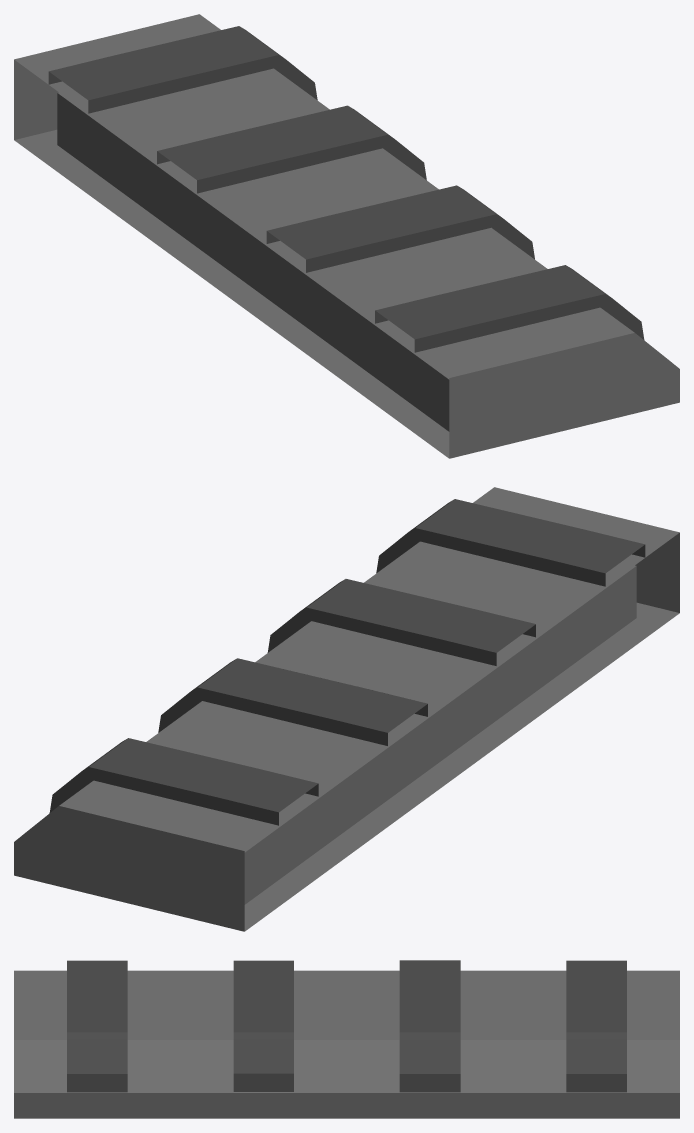
The model's file is Wall_Lamp_01.fbx.
3 renders of one model, top to bottom at view 1: azimuth 30°, elevation 25°; view 2: azimuth 150°, elevation 25°; view 3: azimuth 270°, elevation 25°, orthographic. The views are drawn at different scales.
Parts seen in each view (by area): view 1: Wall_Lamp_01; view 2: Wall_Lamp_01; view 3: Wall_Lamp_01.
Part boxes in pixels (<box>): Wall_Lamp_01: <box>14,14,679,458</box>; Wall_Lamp_01: <box>14,487,679,931</box>; Wall_Lamp_01: <box>14,960,679,1118</box>.
Bounding box in the file's own units: 18.6 × 7.24 × 60.77.
